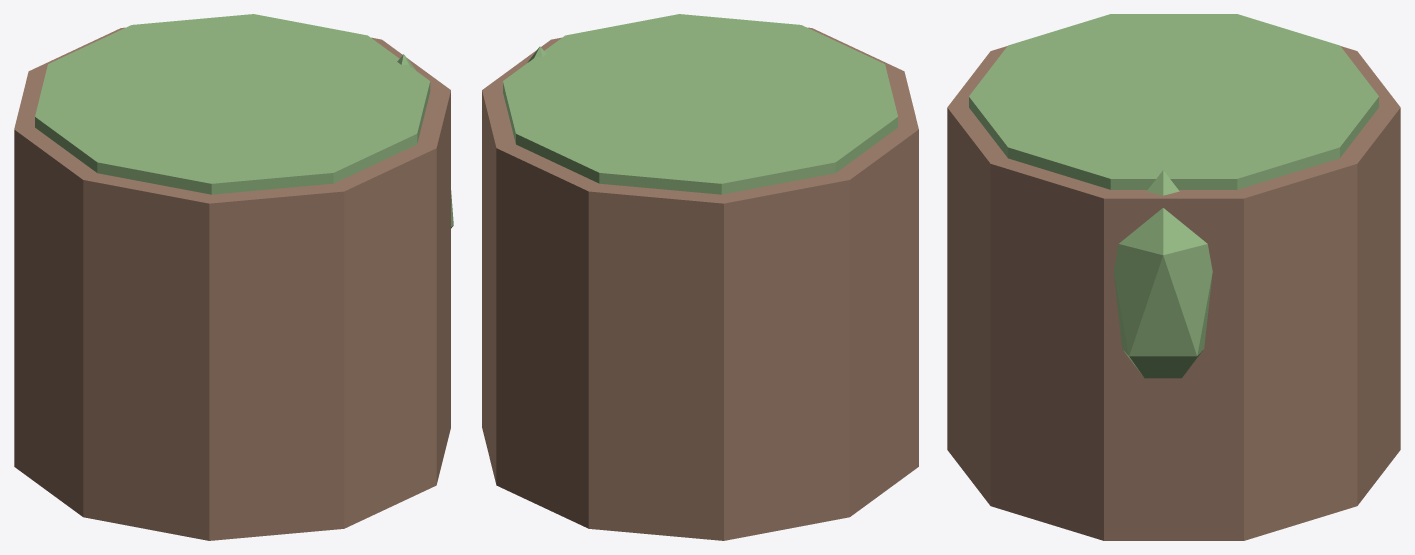
Rendered from Stump_Mossy.glb.
3 renders of one model, left to right at view 1: azimuth 30°, elevation 25°; view 2: azimuth 150°, elevation 25°; view 3: azimuth 270°, elevation 25°, orthographic.
Visible parts, largest first — view 1: FTF_Nature_Stump_Mossy_StaticMesh; view 2: FTF_Nature_Stump_Mossy_StaticMesh; view 3: FTF_Nature_Stump_Mossy_StaticMesh.
Part boxes in pixels (bbox=[...]): FTF_Nature_Stump_Mossy_StaticMesh: bbox=[14, 14, 453, 540]; FTF_Nature_Stump_Mossy_StaticMesh: bbox=[482, 14, 918, 540]; FTF_Nature_Stump_Mossy_StaticMesh: bbox=[947, 14, 1400, 540].
Bounding box in the file's own units: 0.8489 × 0.74 × 0.84.
